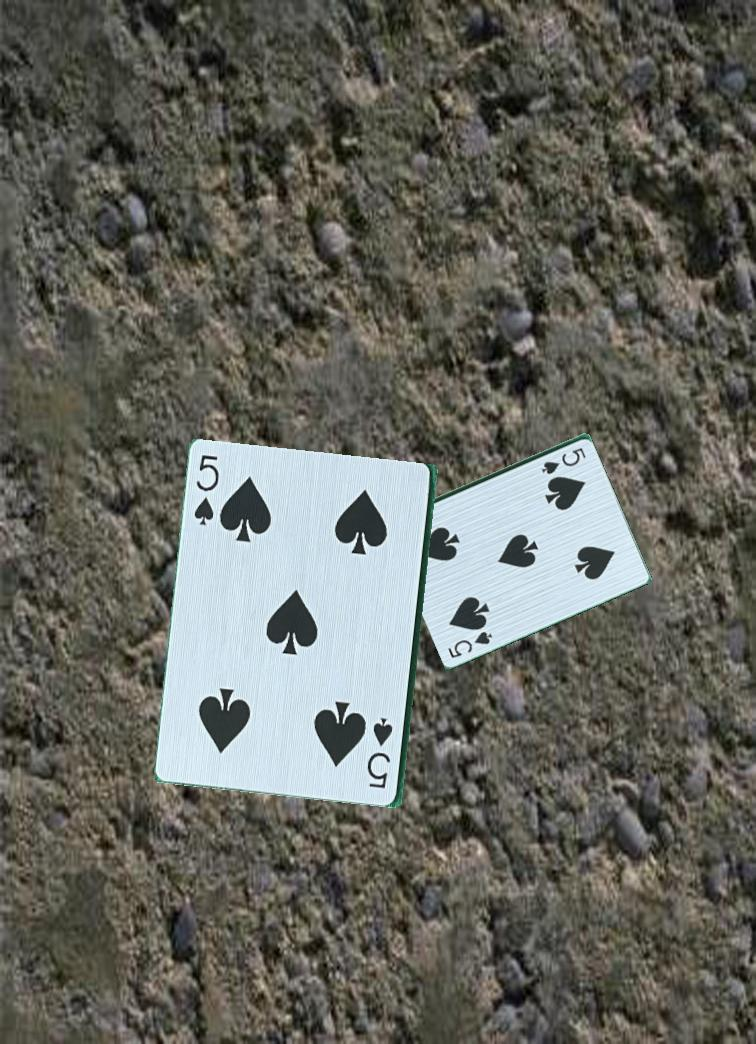5s: (190, 448, 226, 535), (366, 715, 397, 801), (440, 623, 495, 661), (538, 441, 590, 476)
